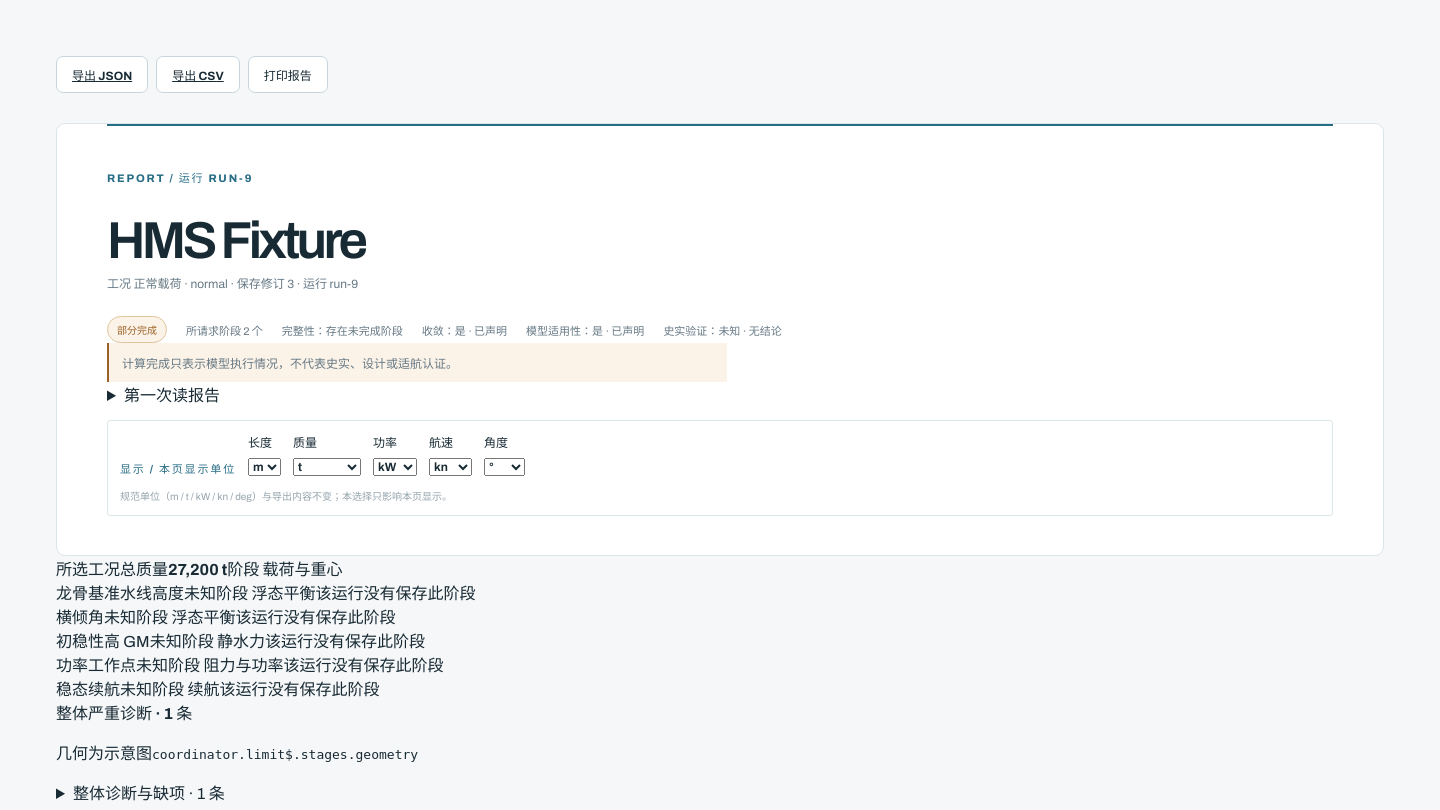
Test: preparing a report for paper › prints the report it was given, and changes neither the units nor the snapshot
Select "kg" in the dropdown named "报告质量显示单位" at coordinates (327, 467), box [293,458,361,476]
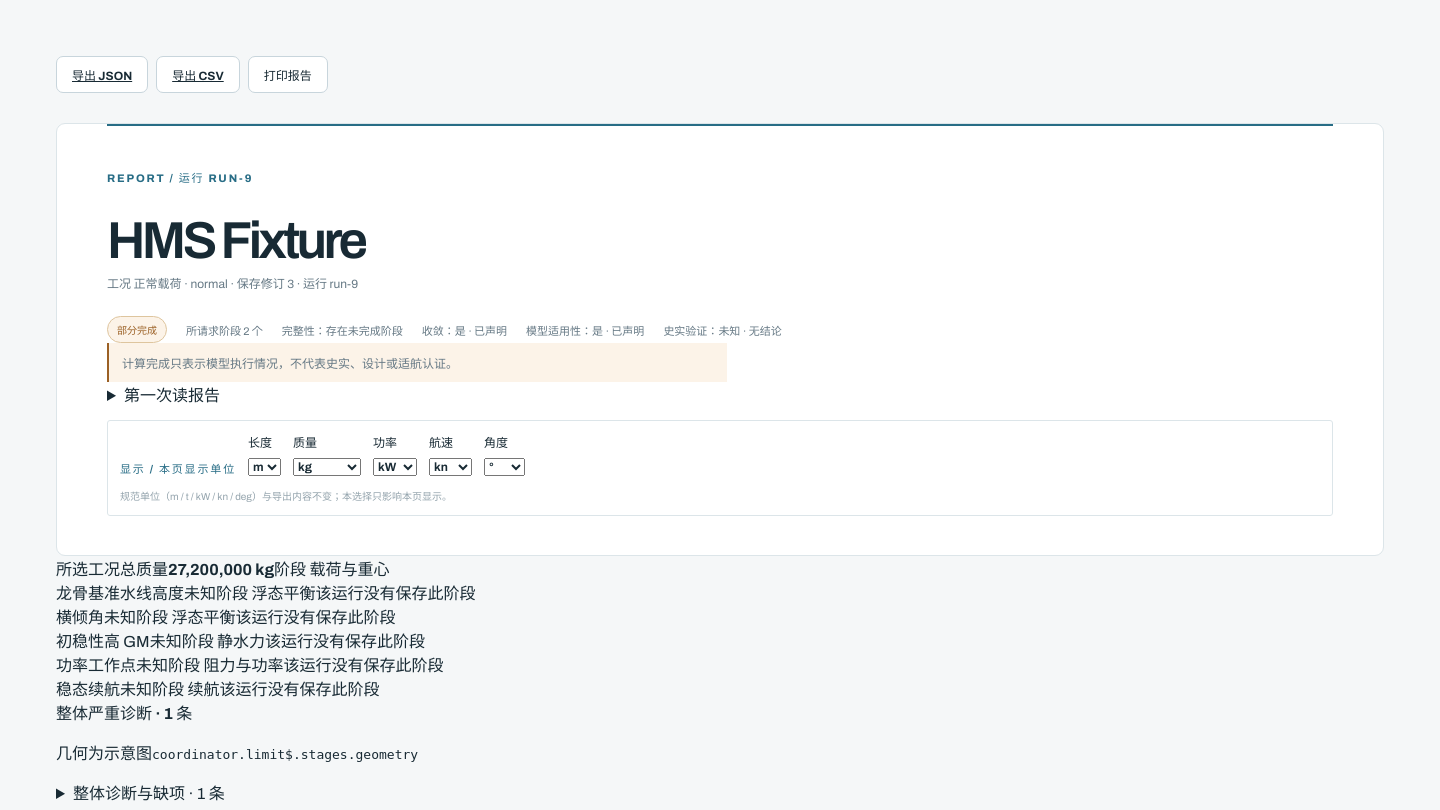
Expected: the text "27,200,000 kg" is shown, [168,561,274,578]
